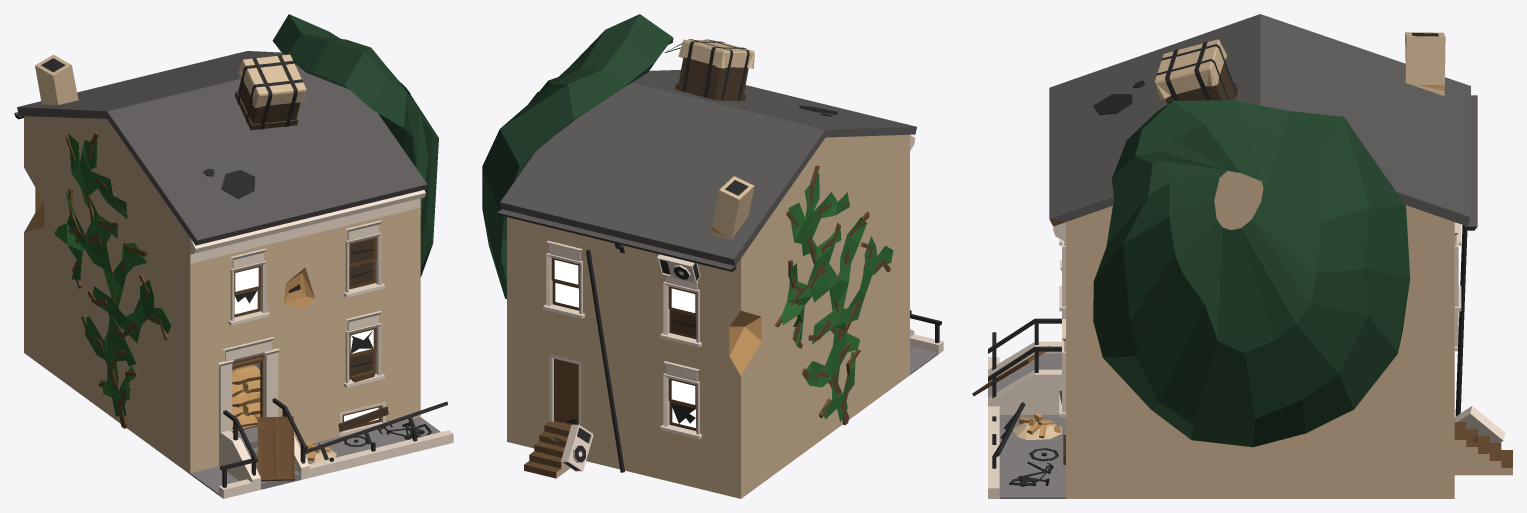
Rendered from apocalypse-building-house-block-big-apocalypse.glb.
3 renders of one model, left to right at view 1: azimuth 30°, elevation 25°; view 2: azimuth 150°, elevation 25°; view 3: azimuth 270°, elevation 25°, orthographic. The views are drawn at different scales.
Visible parts, largest first — view 1: building-house-block-big-apocalypse-main, building-house-block-big-apocalypse-props-a, building-house-block-big-apocalypse-props-b; view 2: building-house-block-big-apocalypse-main, building-house-block-big-apocalypse-props-a, building-house-block-big-apocalypse-props-b; view 3: building-house-block-big-apocalypse-main, building-house-block-big-apocalypse-props-a, building-house-block-big-apocalypse-props-b.
Part boxes in pixels (x1,y1,x2,y2): building-house-block-big-apocalypse-main: (14,51,453,498); building-house-block-big-apocalypse-props-a: (235,14,438,276); building-house-block-big-apocalypse-props-b: (54,132,431,462); building-house-block-big-apocalypse-main: (497,70,943,498); building-house-block-big-apocalypse-props-a: (482,14,754,298); building-house-block-big-apocalypse-props-b: (774,165,893,424); building-house-block-big-apocalypse-main: (972,14,1512,498); building-house-block-big-apocalypse-props-a: (1093,39,1410,447); building-house-block-big-apocalypse-props-b: (1009,413,1061,486).
Bounding box in the file's own units: 11.03 × 11.27 × 13.91.
